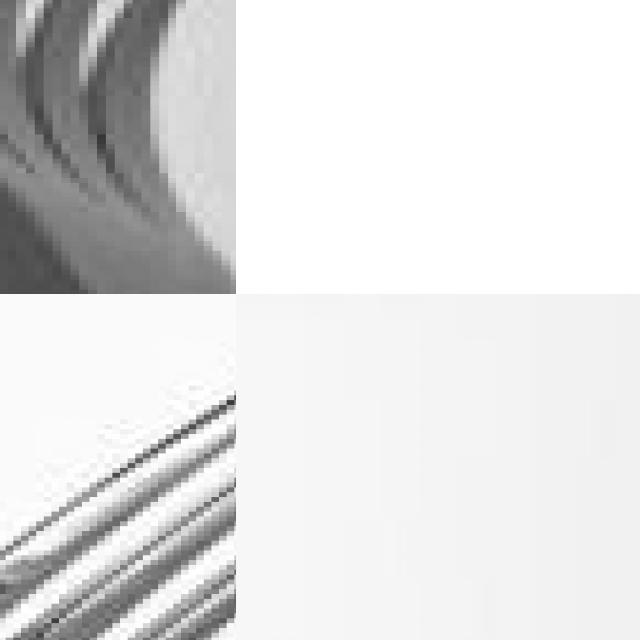forks: (0, 294, 236, 640), (0, 0, 236, 294)
